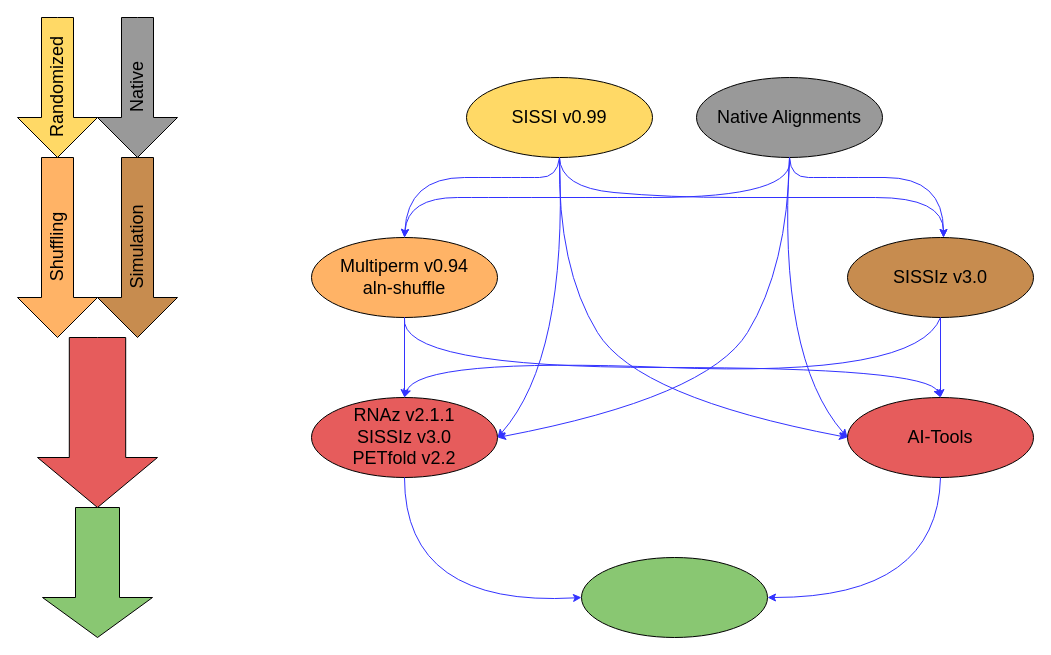
Image size: 1051x655. Some labels were removed from this diagram. The centre of each missing label's shape, as x and y in pixels:
"Evaluation" belongs at (97,572).
"Prediction" belongs at (97,422).
"Visualization Evaluation" belongs at (674,597).
